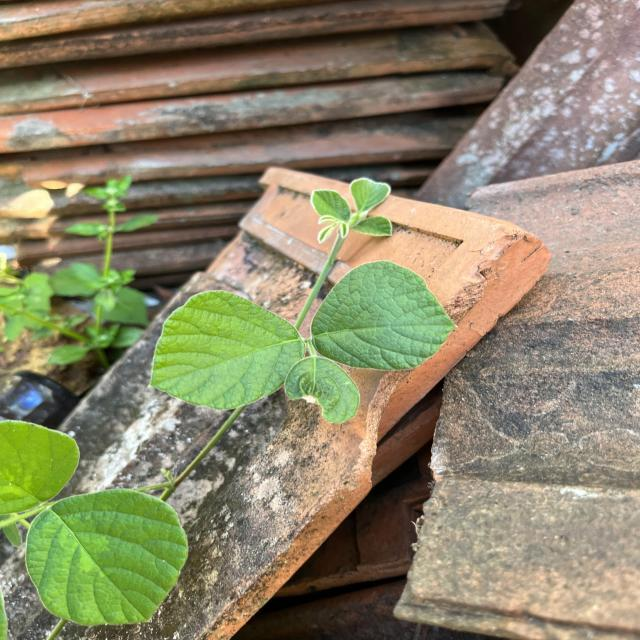Pseudarthria viscida: (148, 258, 460, 426)
